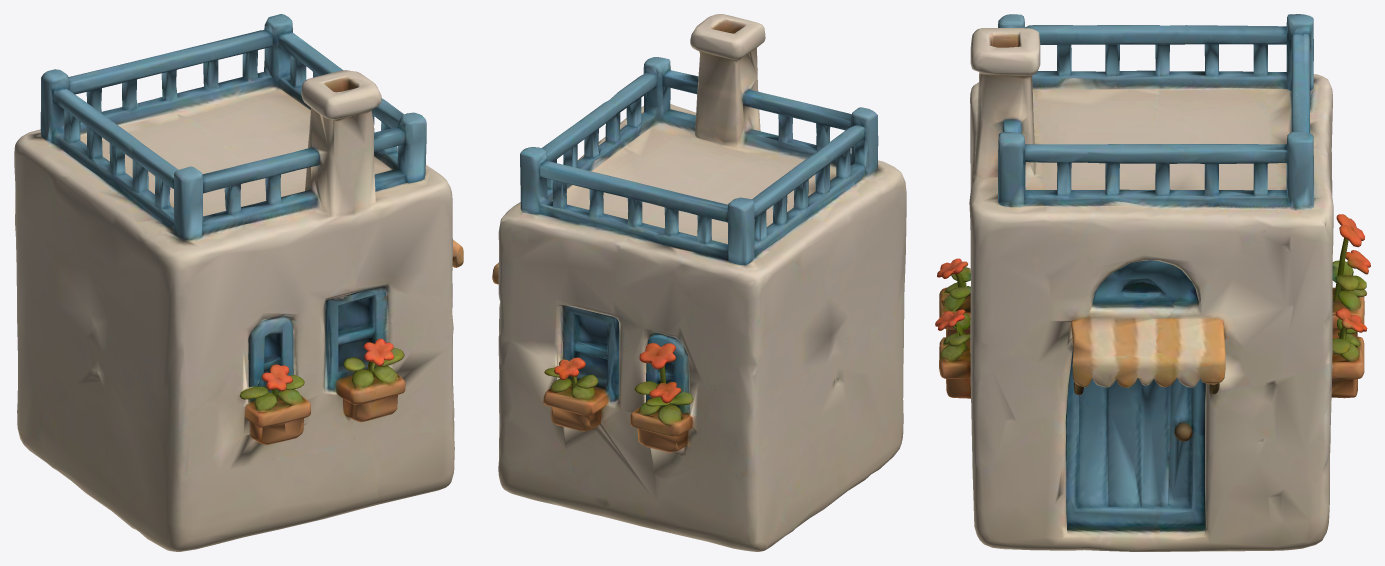
Rendered from house_b.glb.
3 renders of one model, left to right at view 1: azimuth 30°, elevation 25°; view 2: azimuth 150°, elevation 25°; view 3: azimuth 270°, elevation 25°, orthographic. The views are drawn at different scales.
Visible parts, largest first — view 1: tripo_node_950d2b46-4946-4d9e-9a48-cf6e8636a5b3; view 2: tripo_node_950d2b46-4946-4d9e-9a48-cf6e8636a5b3; view 3: tripo_node_950d2b46-4946-4d9e-9a48-cf6e8636a5b3.
Part boxes in pixels (x1,y1,x2,y2): tripo_node_950d2b46-4946-4d9e-9a48-cf6e8636a5b3: (14,14,463,551); tripo_node_950d2b46-4946-4d9e-9a48-cf6e8636a5b3: (492,14,906,551); tripo_node_950d2b46-4946-4d9e-9a48-cf6e8636a5b3: (935,14,1370,551).
Size of the model in its own units: 0.8297 by 0.9998 by 0.8564.
Materials: 1 (1 with a texture image).
